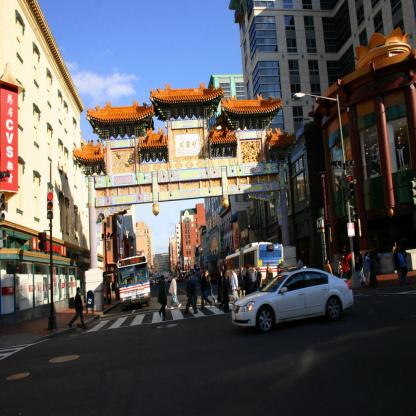Car: (234, 265, 355, 335)
